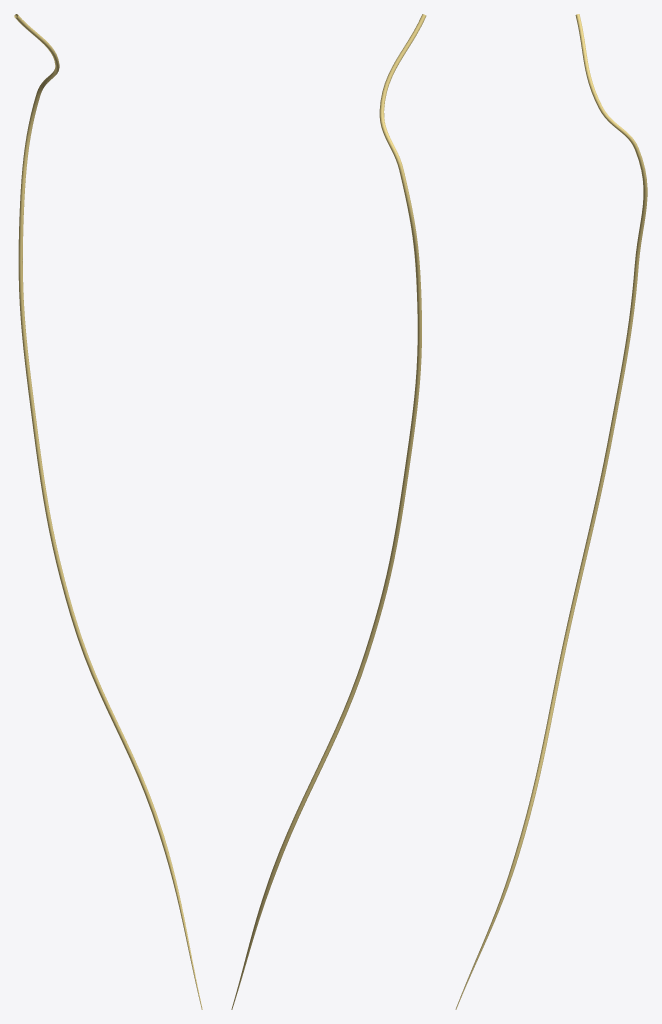
The picture shows the model from 3 angles, left to right: view 1: azimuth 30°, elevation 25°; view 2: azimuth 210°, elevation 25°; view 3: azimuth 270°, elevation 25°; orthographic projection. The views are drawn at different scales.
Visible parts, largest first — view 1: ZA_4360db1973196e71; view 2: ZA_4360db1973196e71; view 3: ZA_4360db1973196e71.
Part boxes in pixels (bbox=[...]): ZA_4360db1973196e71: bbox=[14, 14, 202, 1009]; ZA_4360db1973196e71: bbox=[231, 14, 426, 1009]; ZA_4360db1973196e71: bbox=[455, 14, 647, 1009].
Bounding box in the file's own units: 0.0328 × 0.2466 × 0.0457.
